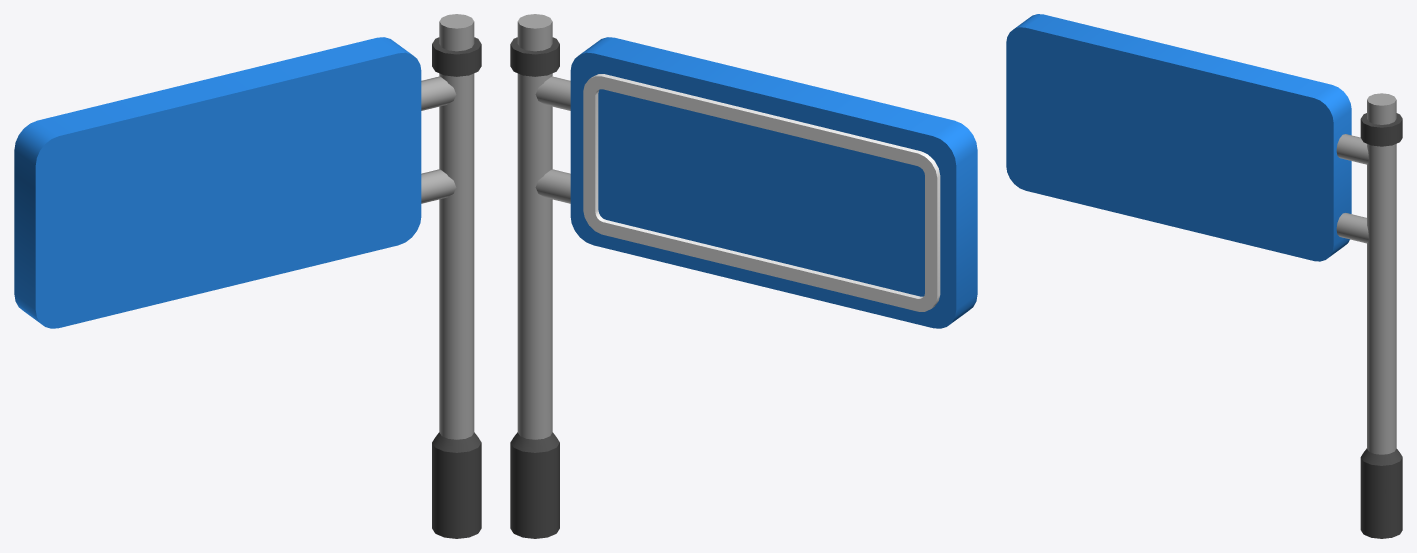
File: brand.fbx
3 renders of one model, left to right at view 1: azimuth 30°, elevation 25°; view 2: azimuth 150°, elevation 25°; view 3: azimuth 330°, elevation 25°, orthographic. The views are drawn at different scales.
Parts seen in each view (by area): view 1: lupai; view 2: lupai; view 3: lupai.
Part boxes in pixels (x1,y1,x2,y2): lupai: (14,14,481,538); lupai: (510,14,977,538); lupai: (1006,14,1402,538).
Size of the model in its own units: 1.11 by 1.19 by 0.1112.
